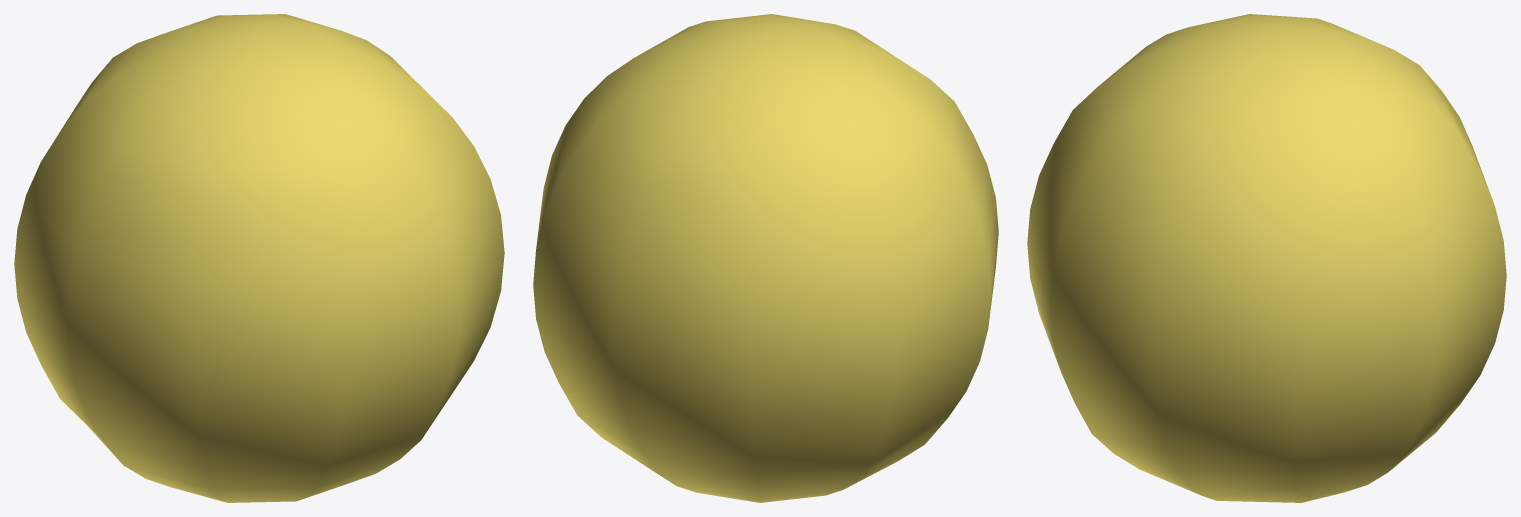
Rendered from Neutron.fbx.
The picture shows the model from 3 angles, left to right: view 1: azimuth 30°, elevation 25°; view 2: azimuth 150°, elevation 25°; view 3: azimuth 270°, elevation 25°; orthographic projection.
Visible parts, largest first — view 1: pSphere6; view 2: pSphere6; view 3: pSphere6.
Boxes of the visible parts, x1,y1,x2,y2 form: pSphere6: (14,14,504,502); pSphere6: (533,14,998,502); pSphere6: (1027,14,1506,502).
Bounding box in the file's own units: 0.6356 × 0.6515 × 0.6356.
